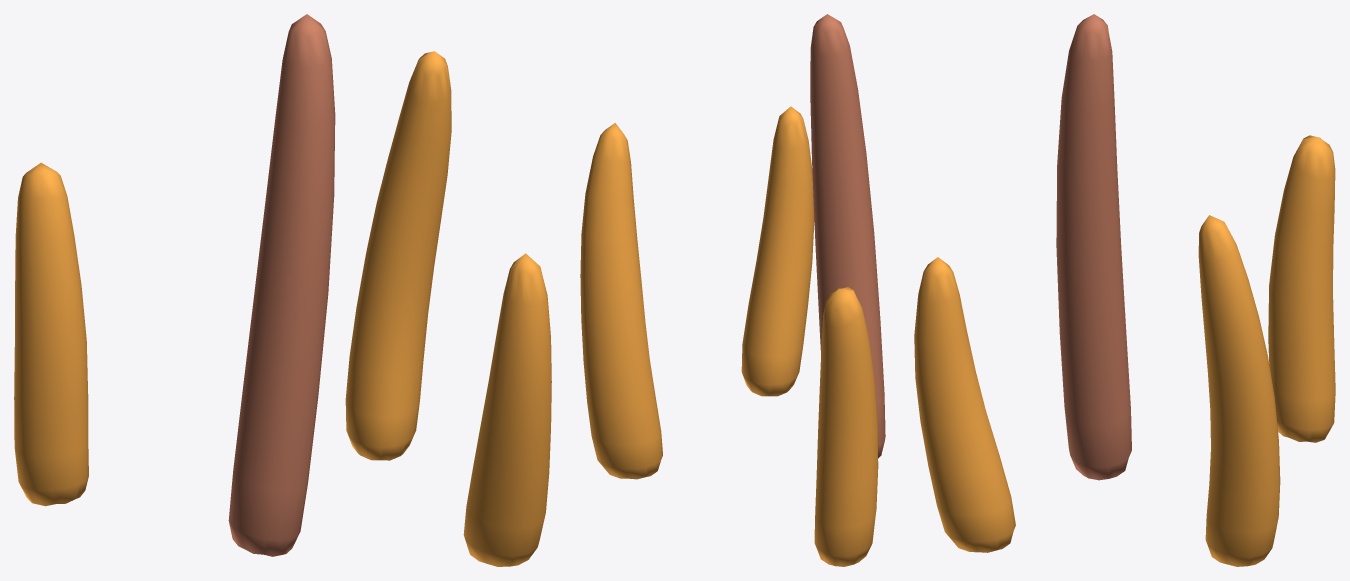
File: Spikes_02.fbx
The picture shows the model from 3 angles, left to right: view 1: azimuth 30°, elevation 25°; view 2: azimuth 150°, elevation 25°; view 3: azimuth 270°, elevation 25°; orthographic projection. The views are drawn at different scales.
Parts seen in each view (by area): view 1: Spikes_02_LOD0; view 2: Spikes_02_LOD0; view 3: Spikes_02_LOD0.
Boxes of the visible parts, x1,y1,x2,y2 form: Spikes_02_LOD0: (14,14,551,566); Spikes_02_LOD0: (580,14,885,566); Spikes_02_LOD0: (914,14,1335,566).
Size of what is drawn, in the model's own units: 453 by 607 by 477.
